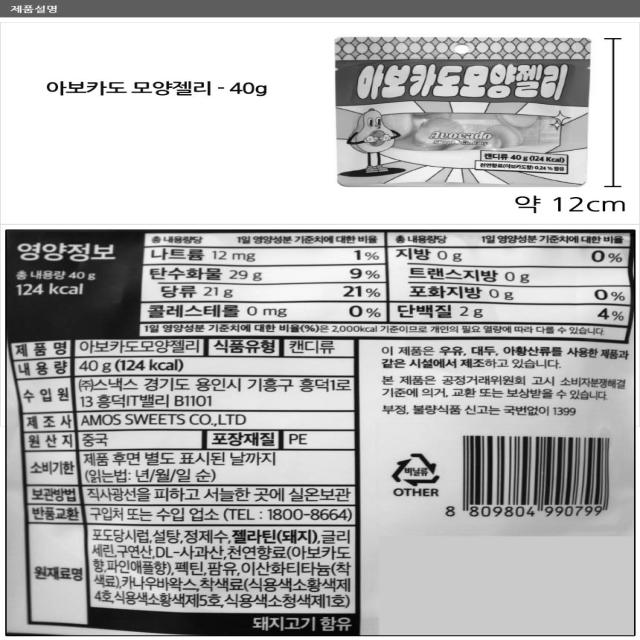Nutrition Label: (5, 229, 640, 340)
